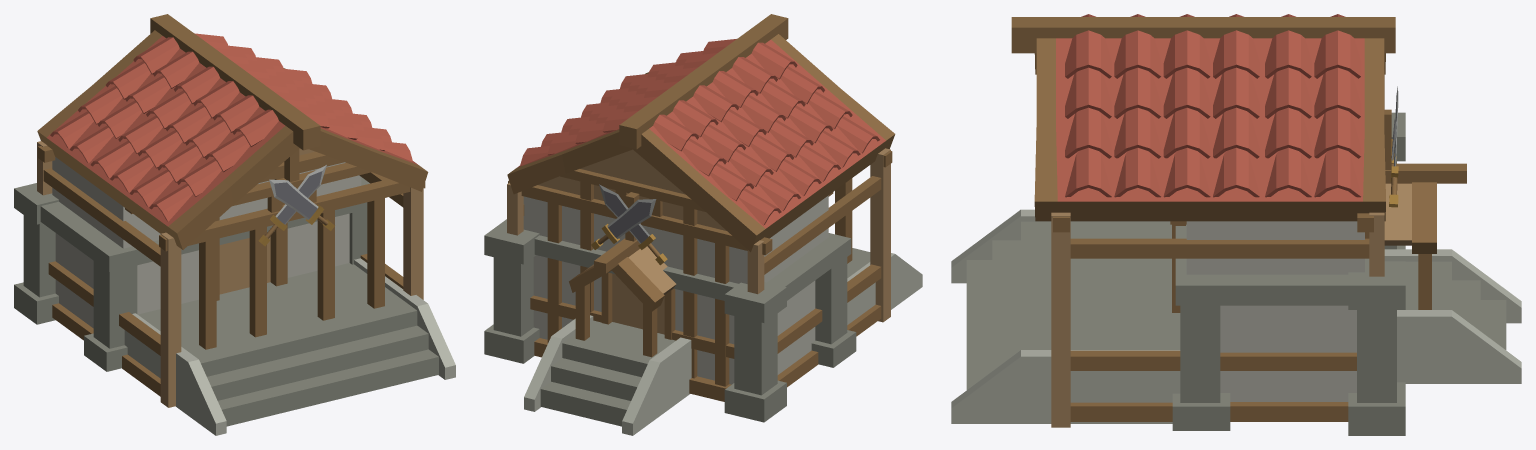
The model's file is prop_barracks.glb.
3 views of the same model, side by side, from view 1: azimuth 30°, elevation 25°; view 2: azimuth 150°, elevation 25°; view 3: azimuth 270°, elevation 25° (orthographic). The views are drawn at different scales.
Visible parts, largest first — view 1: Barracks_SecondAge_Level1; view 2: Barracks_SecondAge_Level1; view 3: Barracks_SecondAge_Level1.
Boxes of the visible parts, x1,y1,x2,y2 form: Barracks_SecondAge_Level1: (14,14,455,435); Barracks_SecondAge_Level1: (484,14,922,435); Barracks_SecondAge_Level1: (951,14,1521,435).
Size of the model in its own units: 1.01 by 0.8931 by 1.41.
Materials: 1 (1 with a texture image).
